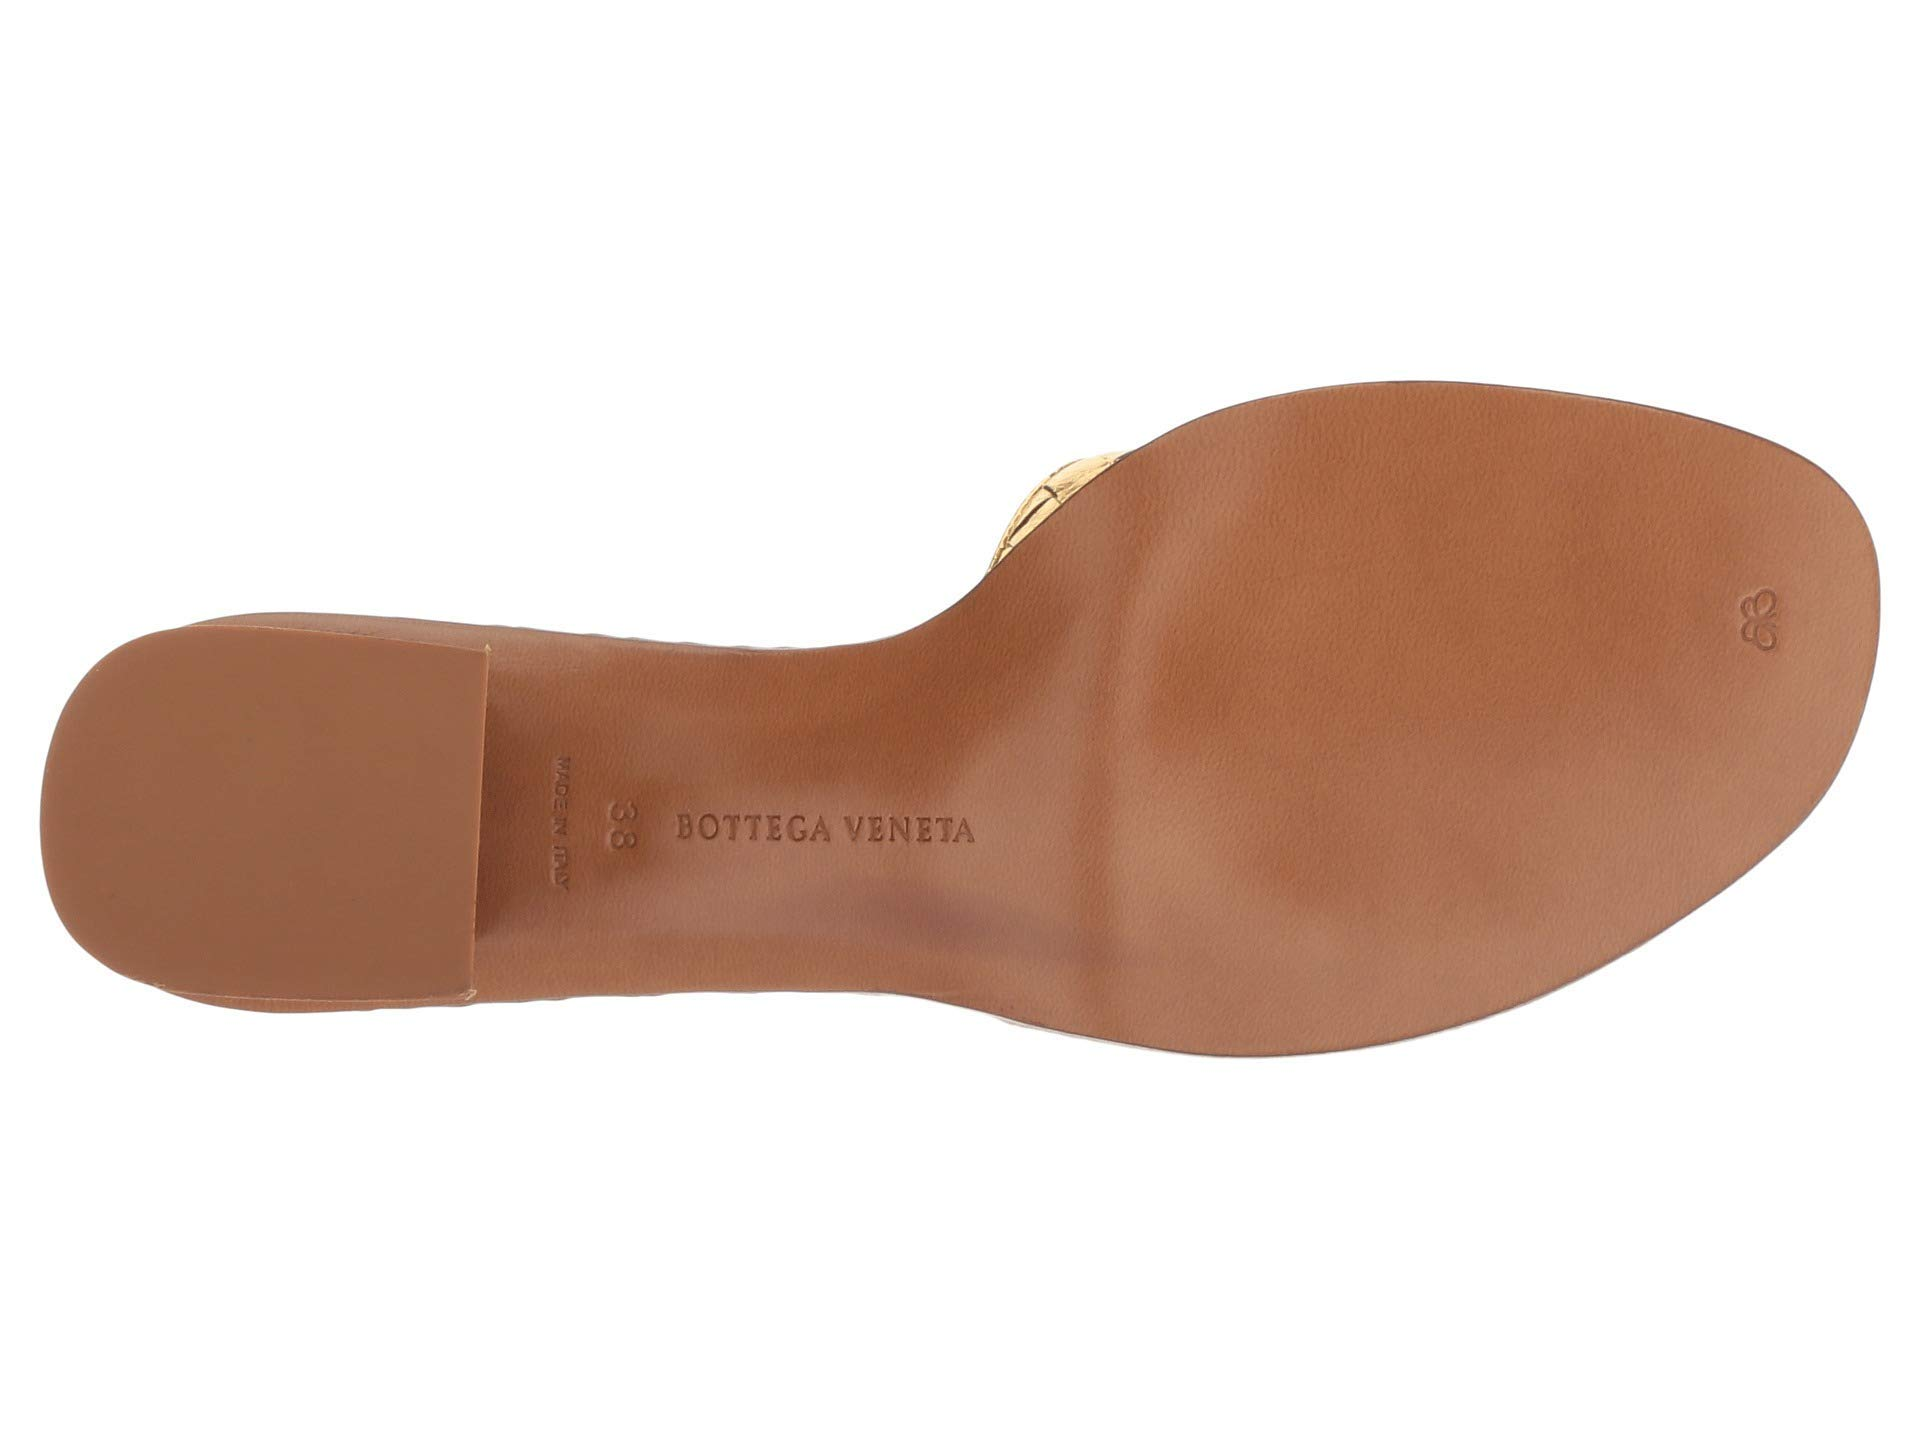circle: (519, 718, 1031, 923)
other: (1733, 573, 1817, 687)
text: (519, 718, 1031, 923)
